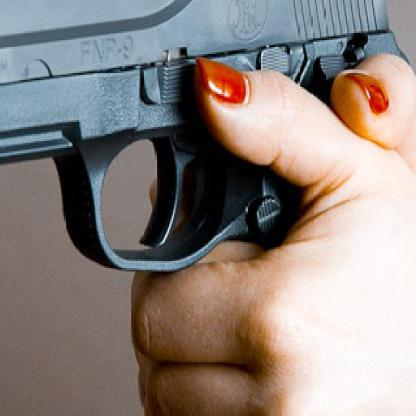gun: (0, 0, 410, 334)
